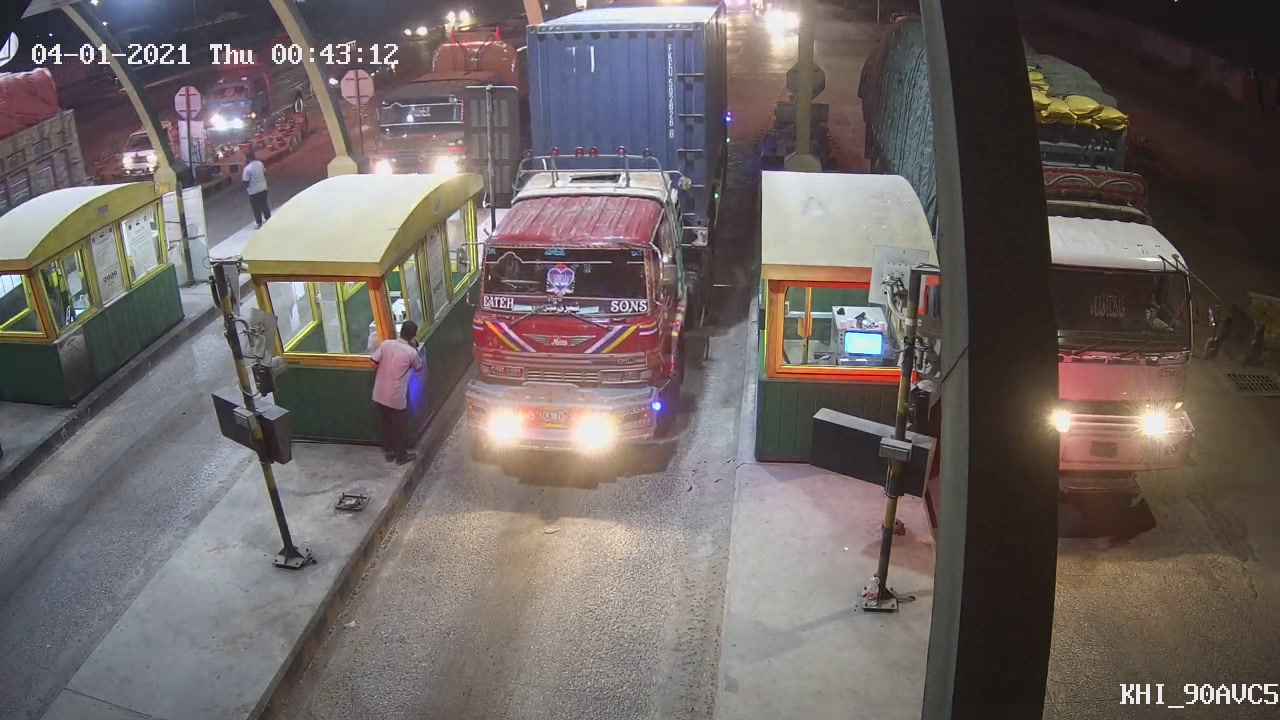F5: (461, 23, 720, 468)
